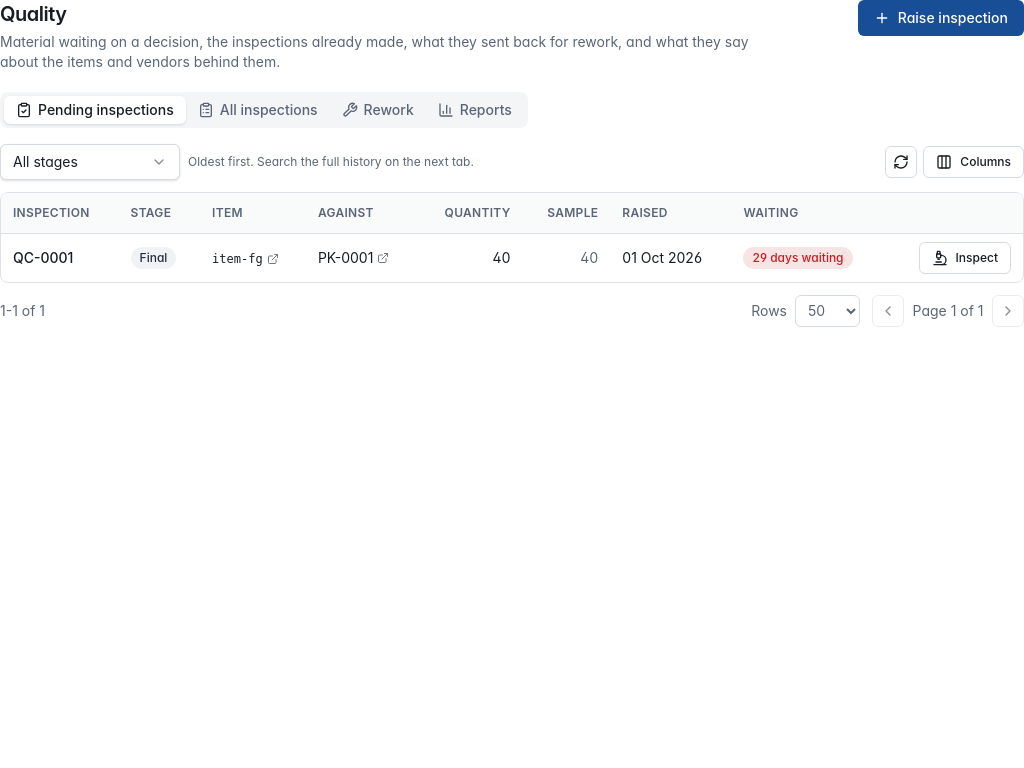
Test: opening any inspection read-only › a row click opens the detail while Inspect still opens the sheet
Click the text "QC-0001".
click(43, 257)  # box [13,248,73,266]
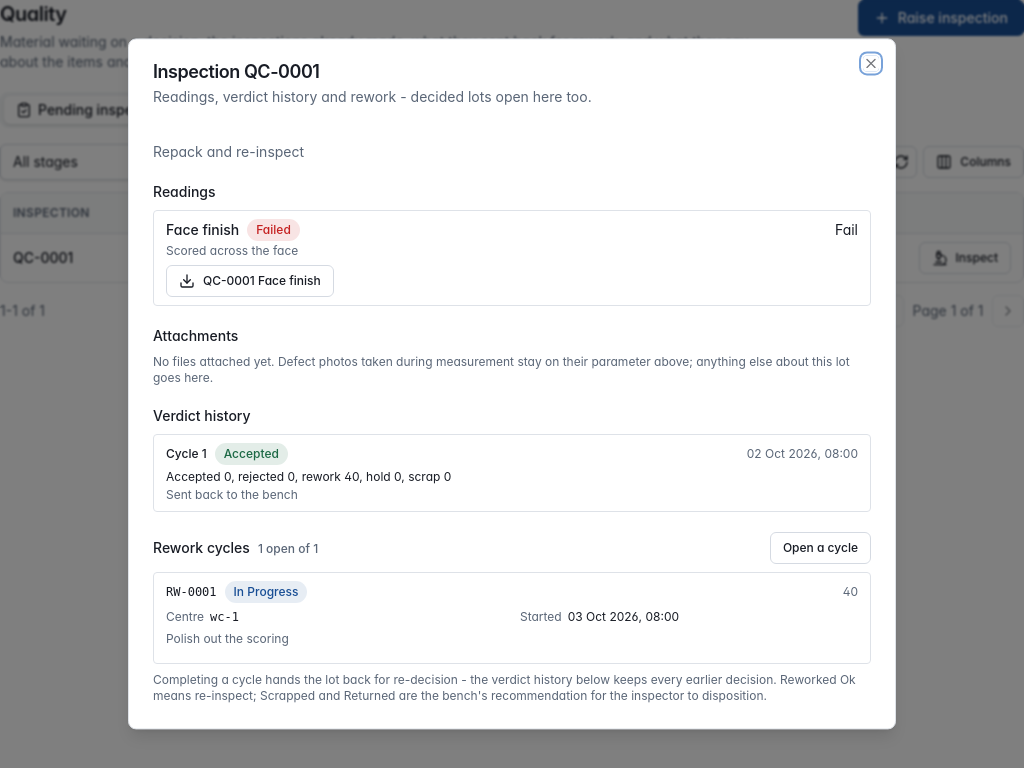
expect the heading "Verdict history" is shown: met, box [153,407,251,424]
